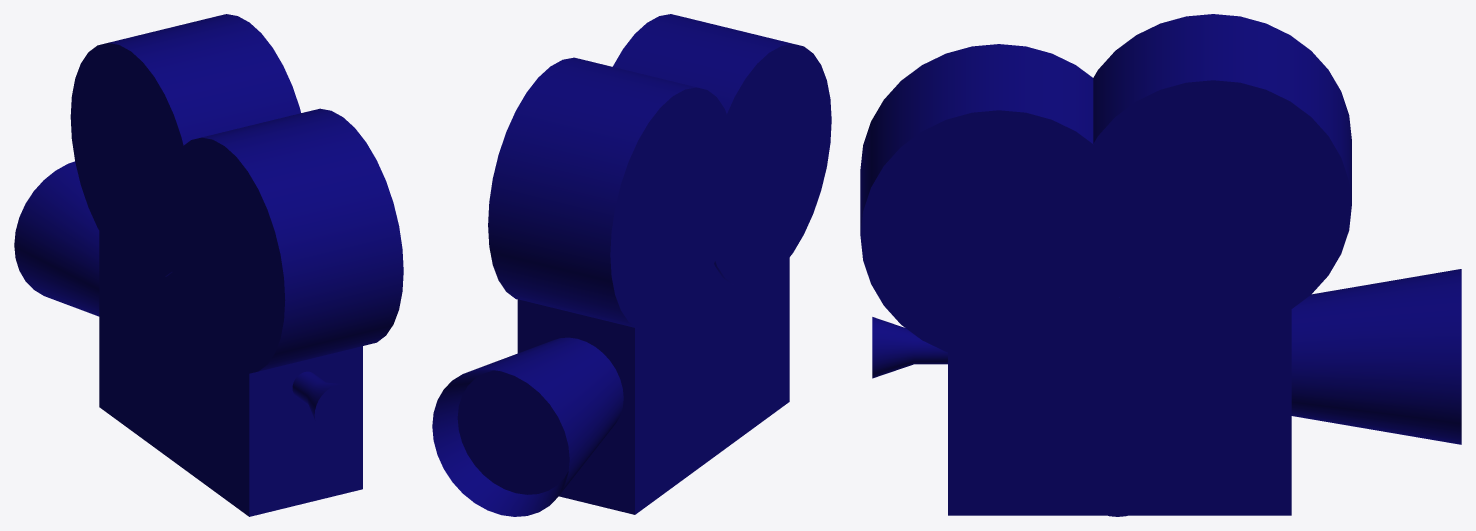
Rendered from camera.obj.
3 renders of one model, left to right at view 1: azimuth 30°, elevation 25°; view 2: azimuth 150°, elevation 25°; view 3: azimuth 270°, elevation 25°, orthographic. The views are drawn at different scales.
Parts seen in each view (by area): view 1: Cube; view 2: Cube; view 3: Cube.
Part boxes in pixels (x1,y1,x2,y2): Cube: (14, 14, 403, 516); Cube: (432, 14, 831, 516); Cube: (860, 14, 1461, 516).
Bounding box in the file's own units: 0.1573 × 0.4525 × 0.5366.
